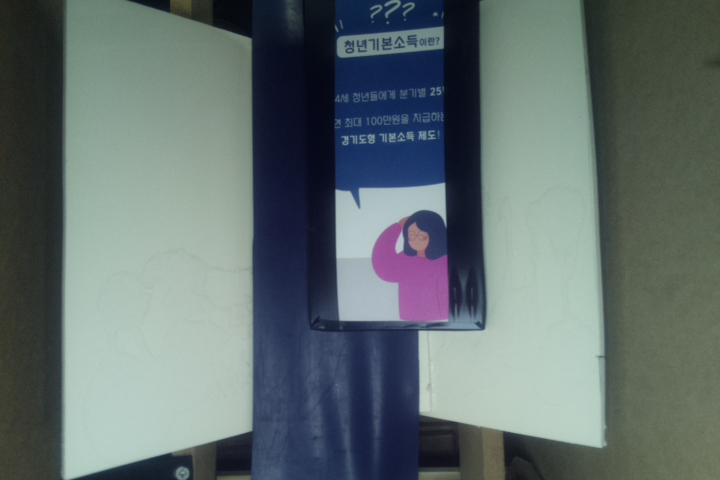book: (309, 1, 483, 331)
